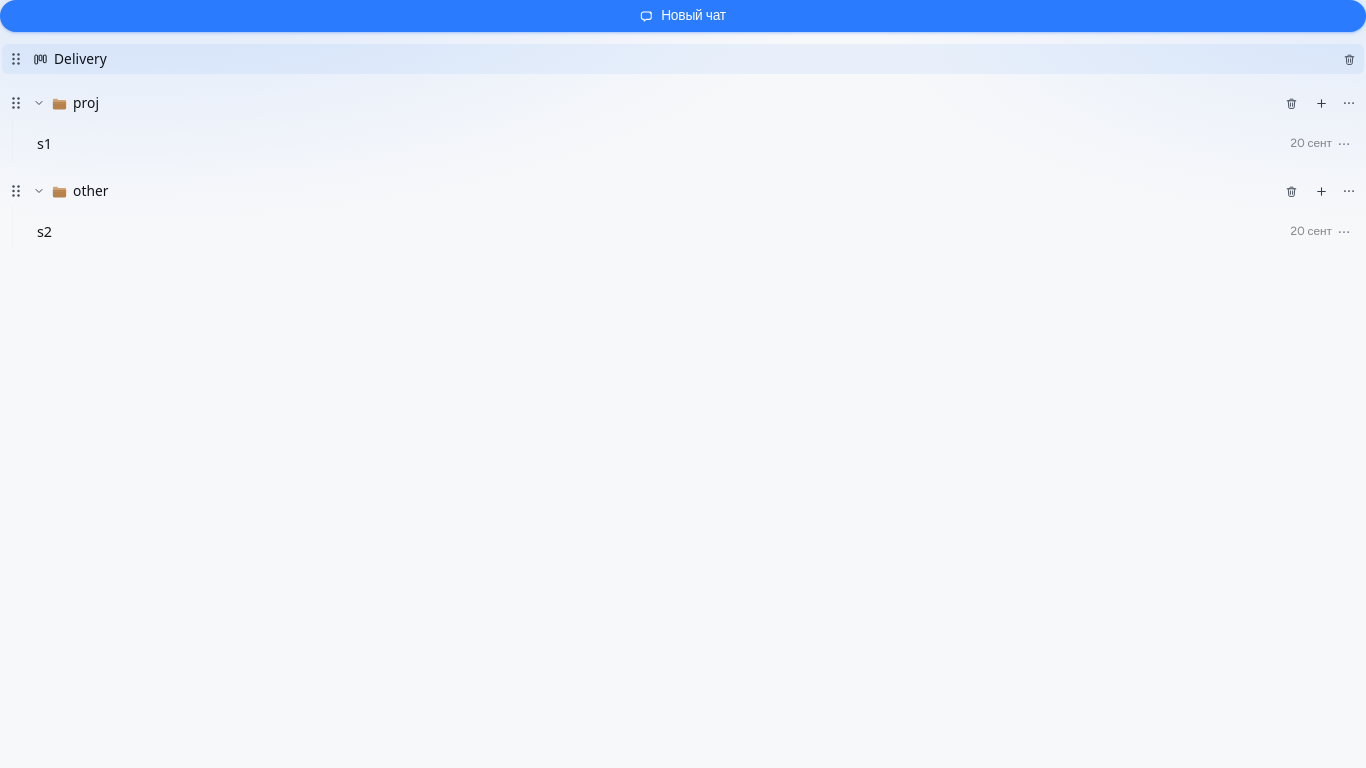
Test: board row menu › closes when the new-chat picker opens
This screenshot has width=1366, height=768.
Step 1. Right-click the element showing "Delivery" → x=683, y=59, box [2,44,1364,74]
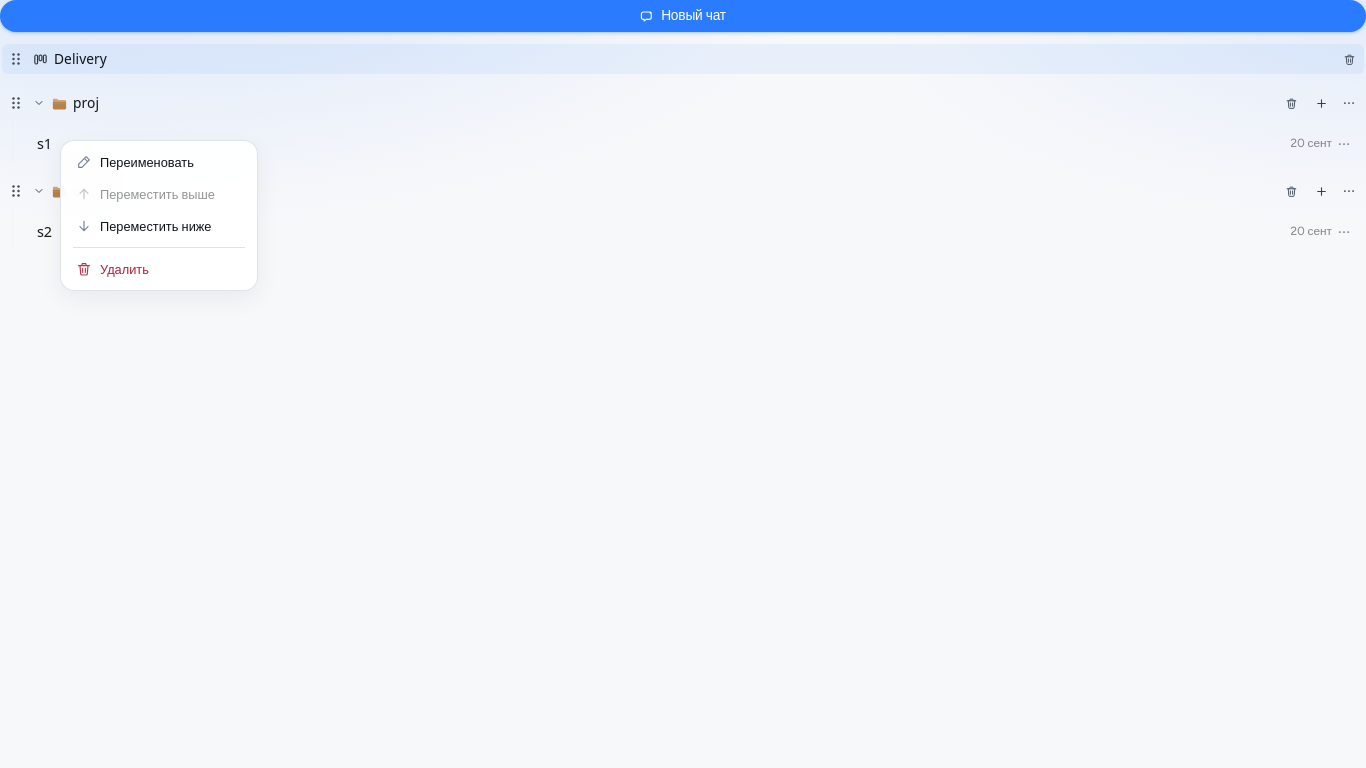
Now the menu is shown, box [60,140,258,291]
Step 2. Click the button named "Новый чат в папке" in the row of "proj" → x=1321, y=103, box [1310,92,1332,114]
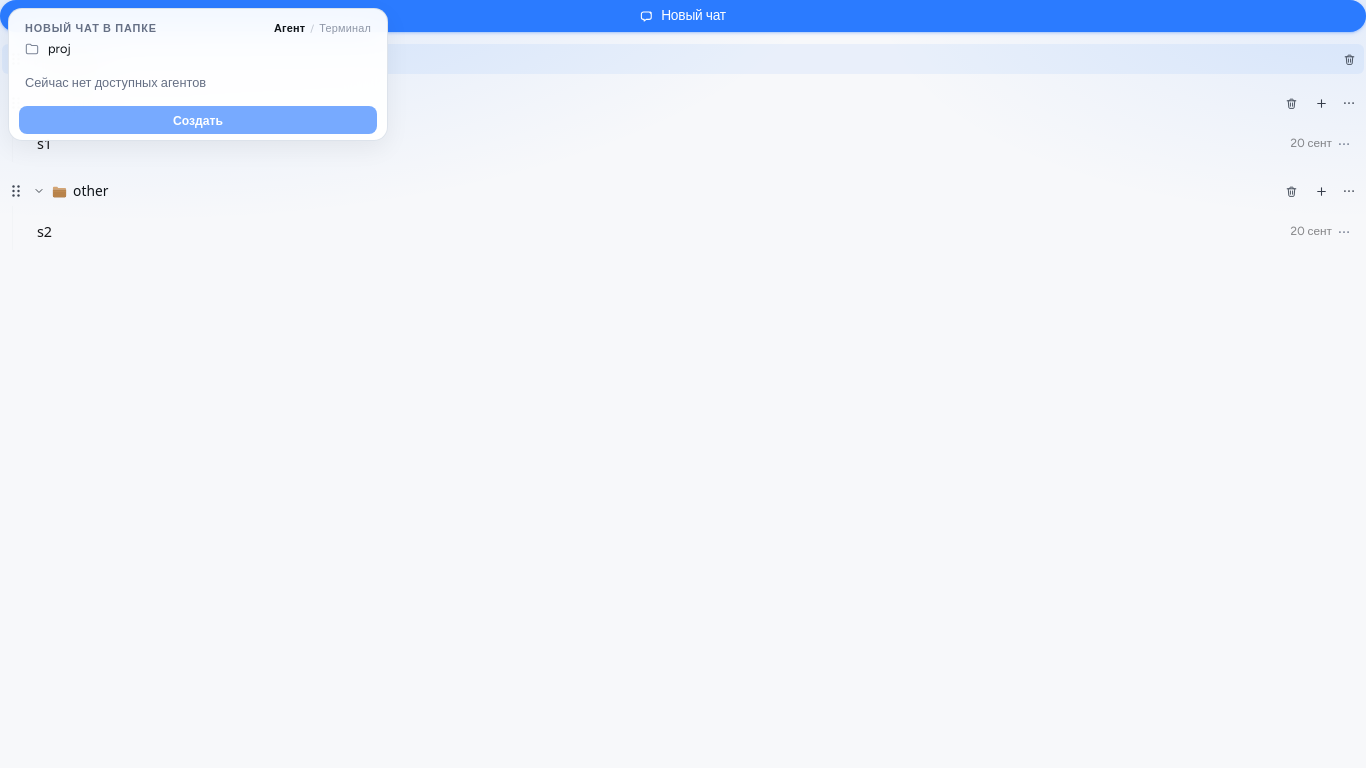
Now the menu is gone
